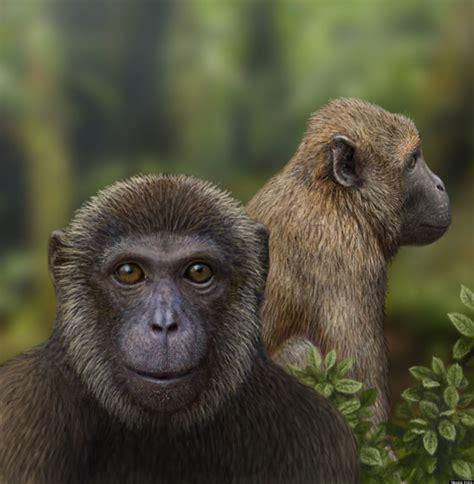monkey: (1, 176, 362, 483), (242, 100, 450, 432)
